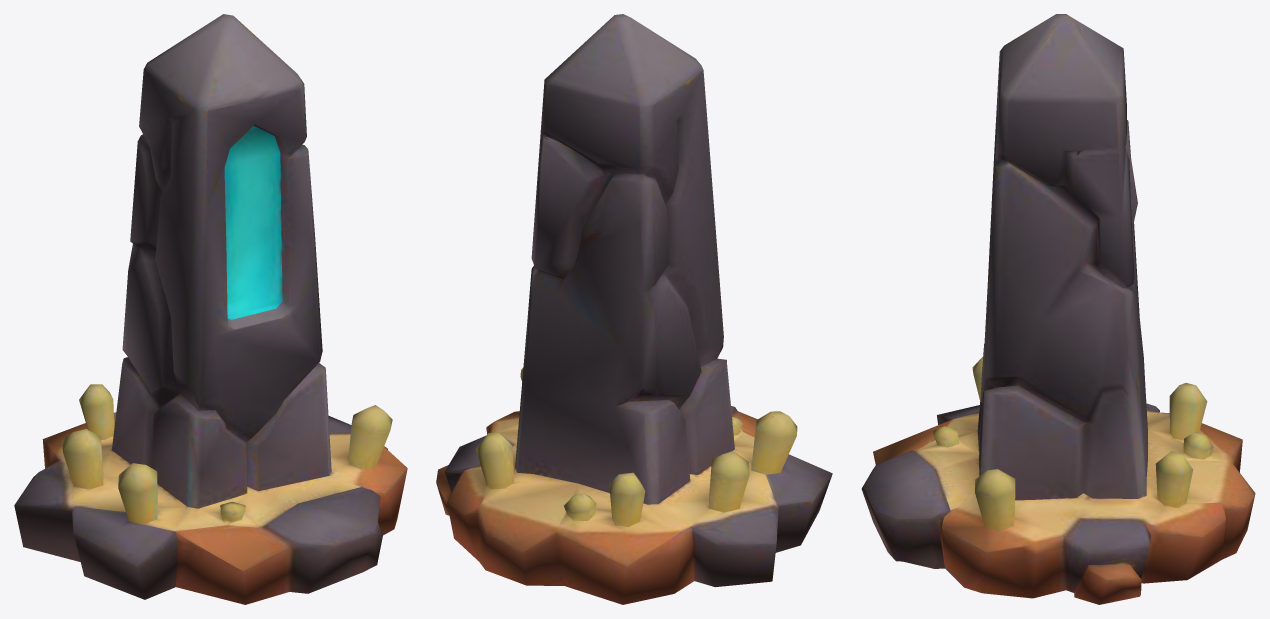
The model's file is lg-lake-obelisk.glb.
The picture shows the model from 3 angles, left to right: view 1: azimuth 30°, elevation 25°; view 2: azimuth 150°, elevation 25°; view 3: azimuth 270°, elevation 25°; orthographic projection.
Parts seen in each view (by area): view 1: geometry_0; view 2: geometry_0; view 3: geometry_0.
Part boxes in pixels (x1,y1,x2,y2): geometry_0: (14,14,407,604); geometry_0: (436,14,832,604); geometry_0: (861,14,1255,604).
Size of the model in its own units: 0.7152 by 1 by 0.6965.
Materials: 1 (1 with a texture image).
